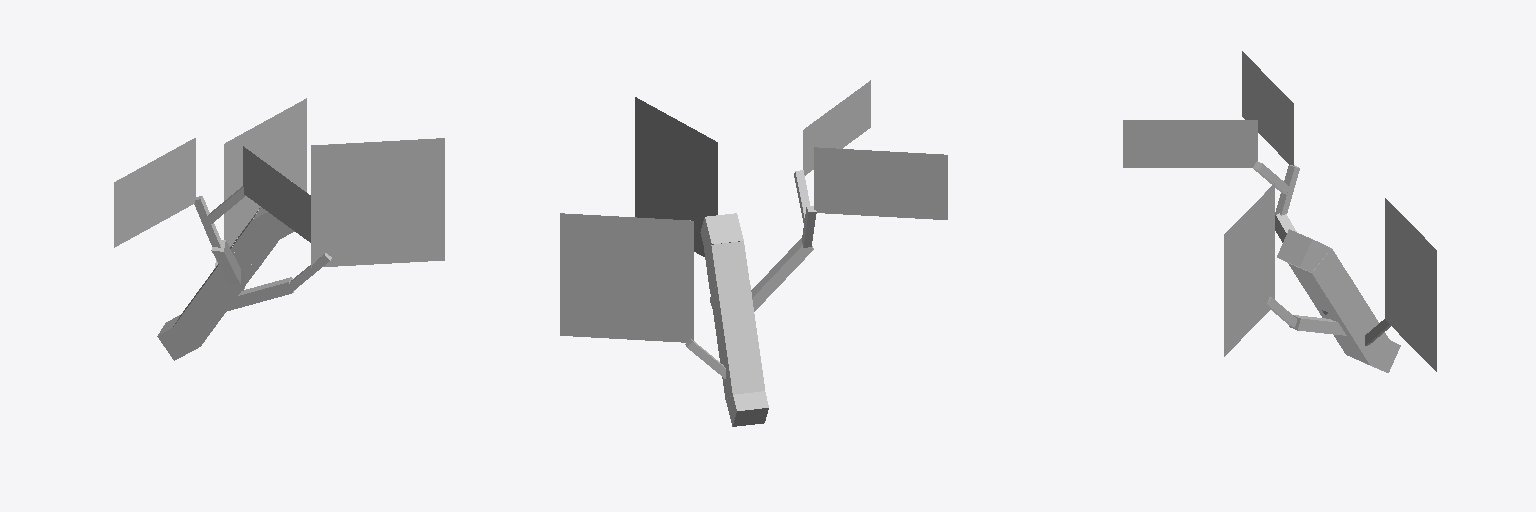
Rendered from diagonal_oak_branch_67_45_branches.obj.
The picture shows the model from 3 angles: view 1: azimuth 30°, elevation 25°; view 2: azimuth 150°, elevation 25°; view 3: azimuth 270°, elevation 25°; orthographic projection.
Parts seen in each view (by area): view 1: halfbeam.010, halfbeam.011, halfbeam.009, halfbeam.008, halfbeam.000, halfbeam.003, halfbeam.005, halfbeam.002, halfbeam.004, halfbeam.001; view 2: halfbeam.011, halfbeam.009, halfbeam.010, halfbeam.000, halfbeam.008, halfbeam.003, halfbeam.004, halfbeam.002, halfbeam.001; view 3: halfbeam.008, halfbeam.011, halfbeam.010, halfbeam.009, halfbeam.000, halfbeam.003, halfbeam.001, halfbeam.005, halfbeam.006.
Part boxes in pixels (x1,y1,x2,y2): halfbeam.010: (311,138,444,267); halfbeam.011: (224,98,306,246); halfbeam.009: (114,138,195,247); halfbeam.008: (243,146,310,242); halfbeam.000: (173,236,256,346); halfbeam.003: (231,208,278,269); halfbeam.005: (227,277,294,310); halfbeam.002: (157,315,198,360); halfbeam.004: (211,239,244,290); halfbeam.001: (252,207,294,239); halfbeam.011: (560,213,693,342); halfbeam.009: (814,147,947,219); halfbeam.010: (635,97,717,256); halfbeam.000: (710,282,764,399); halfbeam.008: (803,80,870,175); halfbeam.003: (704,241,749,290); halfbeam.004: (751,238,813,311); halfbeam.002: (726,391,768,426); halfbeam.001: (700,213,743,248); halfbeam.008: (1123,120,1257,167); halfbeam.011: (1385,198,1436,371); halfbeam.010: (1224,183,1274,356); halfbeam.009: (1242,51,1293,165); halfbeam.000: (1305,274,1389,364); halfbeam.003: (1288,248,1347,298); halfbeam.001: (1277,229,1330,272); halfbeam.005: (1289,315,1346,335); halfbeam.006: (1275,165,1299,215).
Bounding box in the file's own units: 2.75 × 2.07 × 2.32.